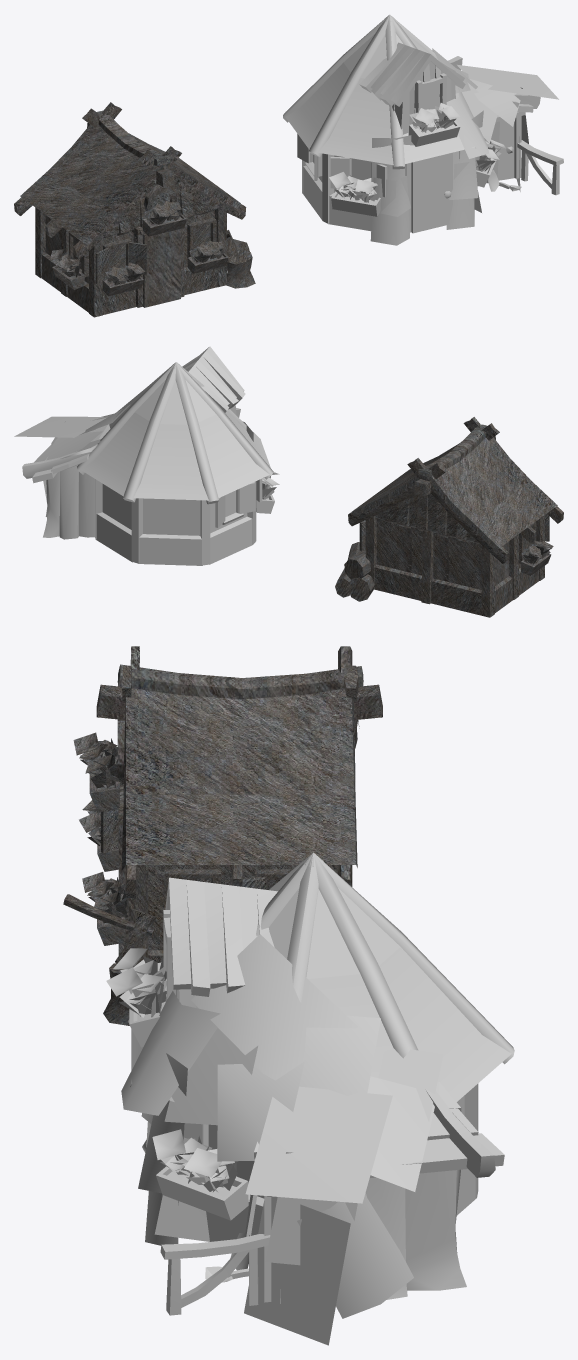
File: woodcutter.fbx
3 views of the same model, one above another, from view 1: azimuth 30°, elevation 25°; view 2: azimuth 150°, elevation 25°; view 3: azimuth 270°, elevation 25° (orthographic). The views are drawn at different scales.
Parts seen in each view (by area): view 1: Mesh_0162, Mesh_0004; view 2: Mesh_0162, Mesh_0004; view 3: Mesh_0162, Mesh_0004.
Boxes of the visible parts, x1,y1,x2,y2 form: Mesh_0162: (283,14,563,245); Mesh_0004: (14,102,255,317); Mesh_0162: (14,346,279,565); Mesh_0004: (335,417,563,617); Mesh_0162: (106,852,514,1345); Mesh_0004: (63,646,382,1025).
Bounding box in the file's own units: 1487 × 538 × 589.
